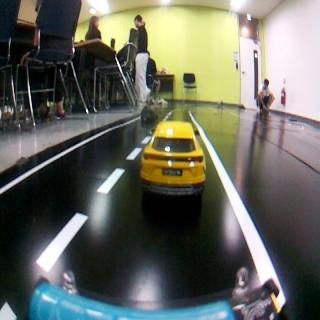car: (141, 122, 203, 196), (144, 106, 156, 125)
